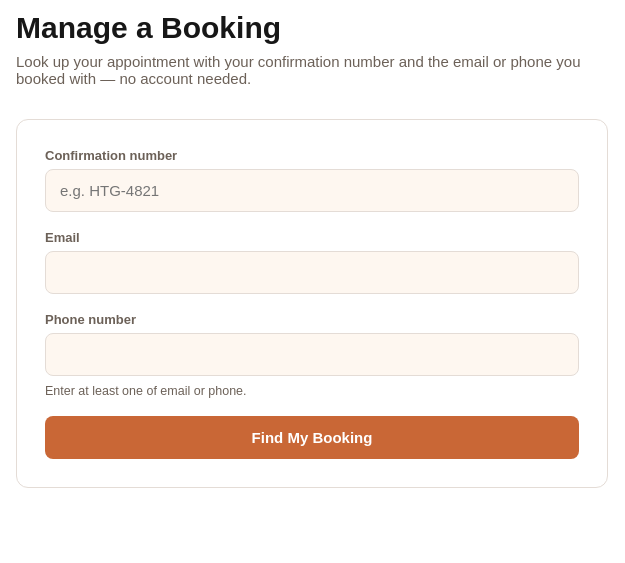
Test case: ManageBookingFlow — lookup -> result phase transition › blocks lookup when the confirmation number is empty
Step 1. Click the button with test id "booking-lookup-submit-button" → {"x": 312, "y": 438}, box [45,416,579,459]
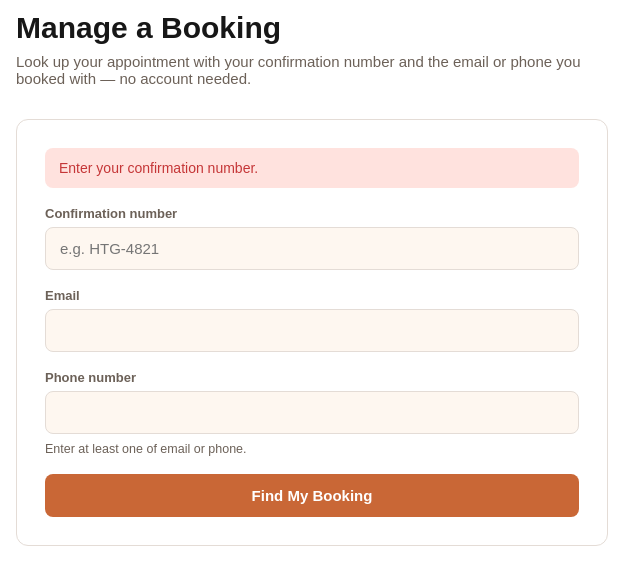
Check: the text with test id "booking-lookup-error" reads "Enter your confirmation number.", box [59,160,258,176]
